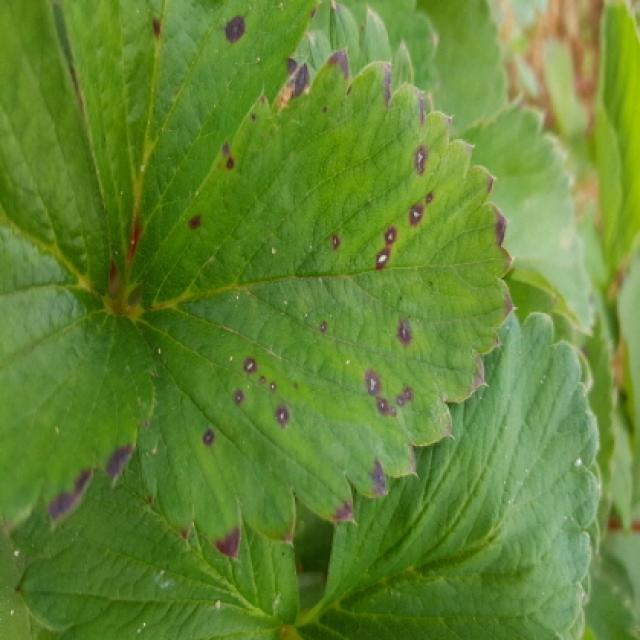Leaf Spot: (122, 45, 515, 562), (60, 0, 321, 294)
